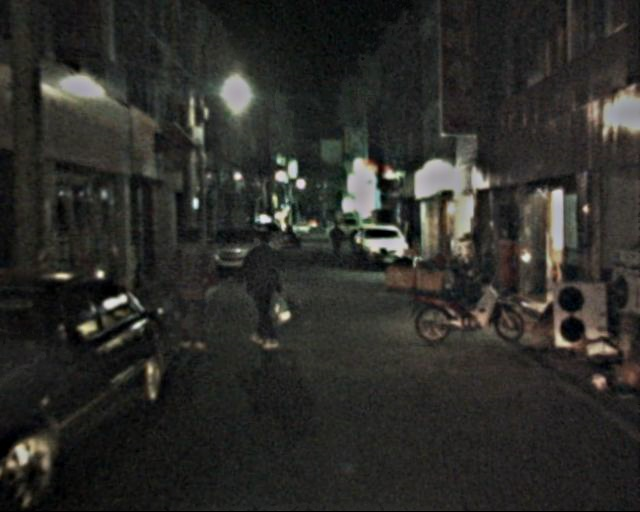person: (166, 223, 218, 350), (237, 231, 289, 349), (328, 222, 344, 262)
